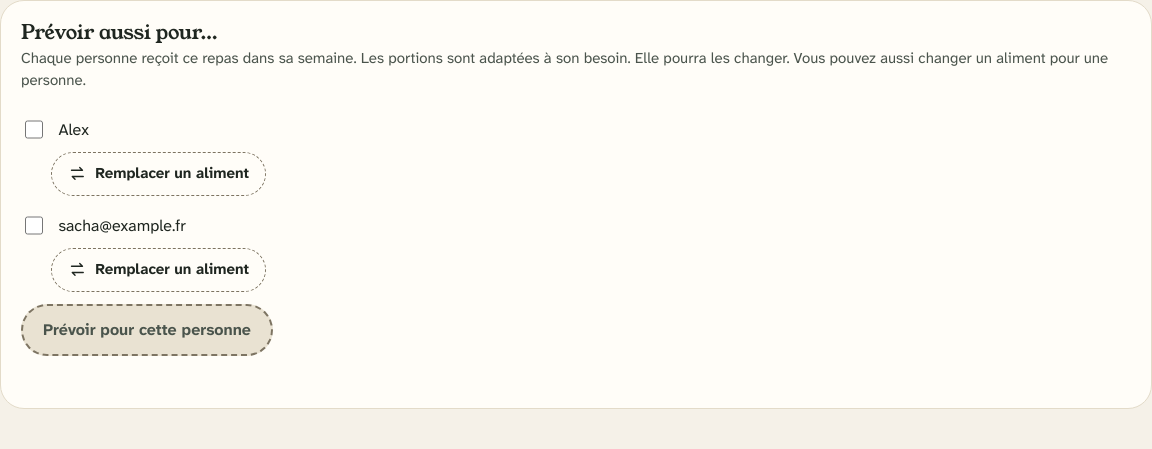
Test: Prévoir aussi pour… › envoie les copies avec les besoins de chacun
Click the checkbox labelled "Alex" at (34, 130), box [25, 120, 43, 139]
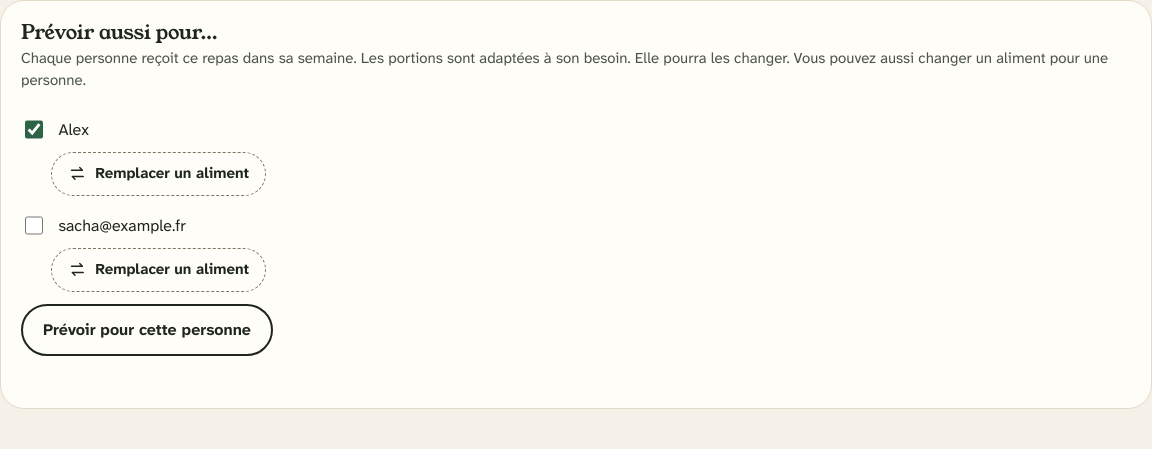
Click the checkbox labelled "sacha@example.fr" at (34, 226), box [25, 216, 43, 235]
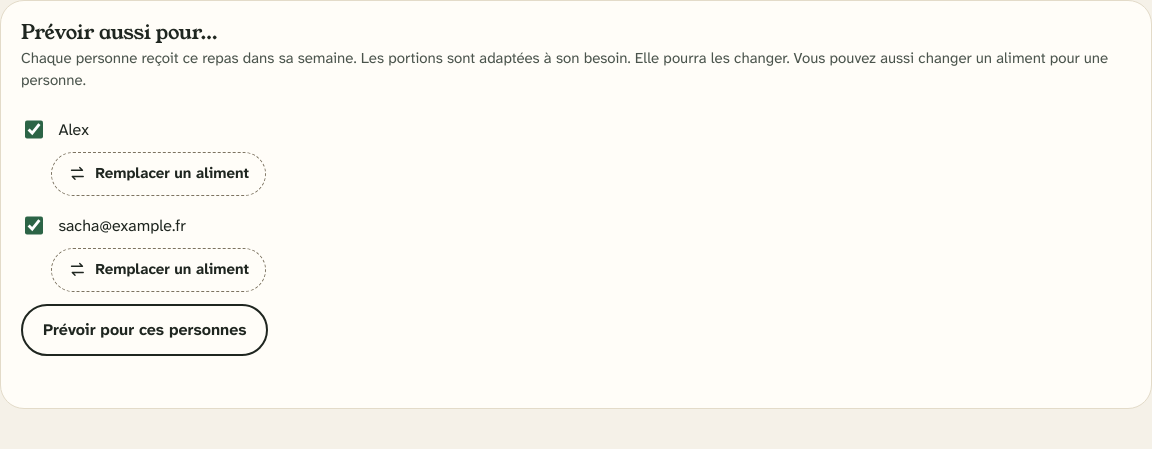
Click the button "Prévoir pour ces personnes" at (145, 330), box [21, 304, 268, 356]
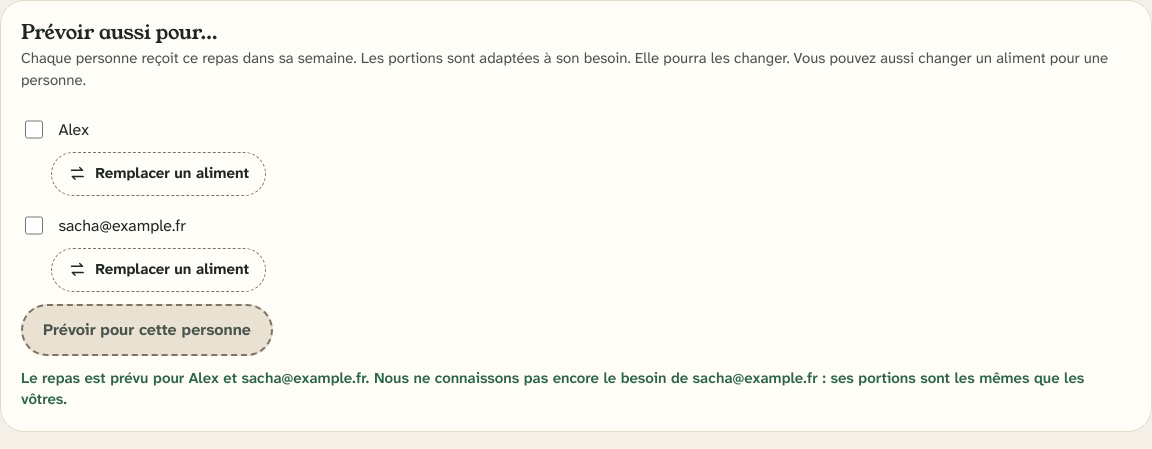
Result: the text "Le repas est prévu pour Alex et sacha@example.fr." is shown at [21, 368, 1084, 409]
Result: the text "Nous ne connaissons pas encore le besoin de sacha@example.fr" is shown at [21, 368, 1084, 409]
